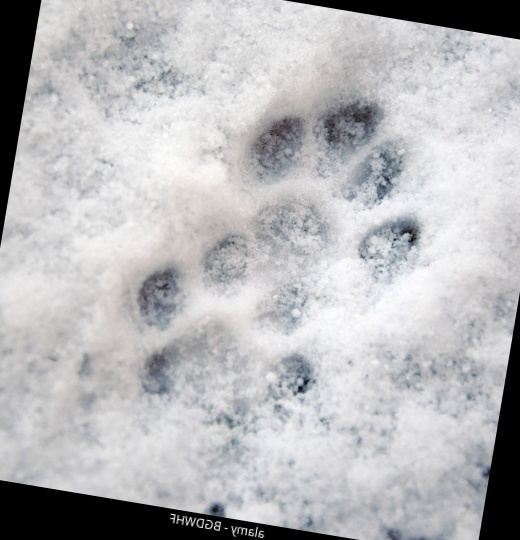fox: (91, 41, 454, 508)
